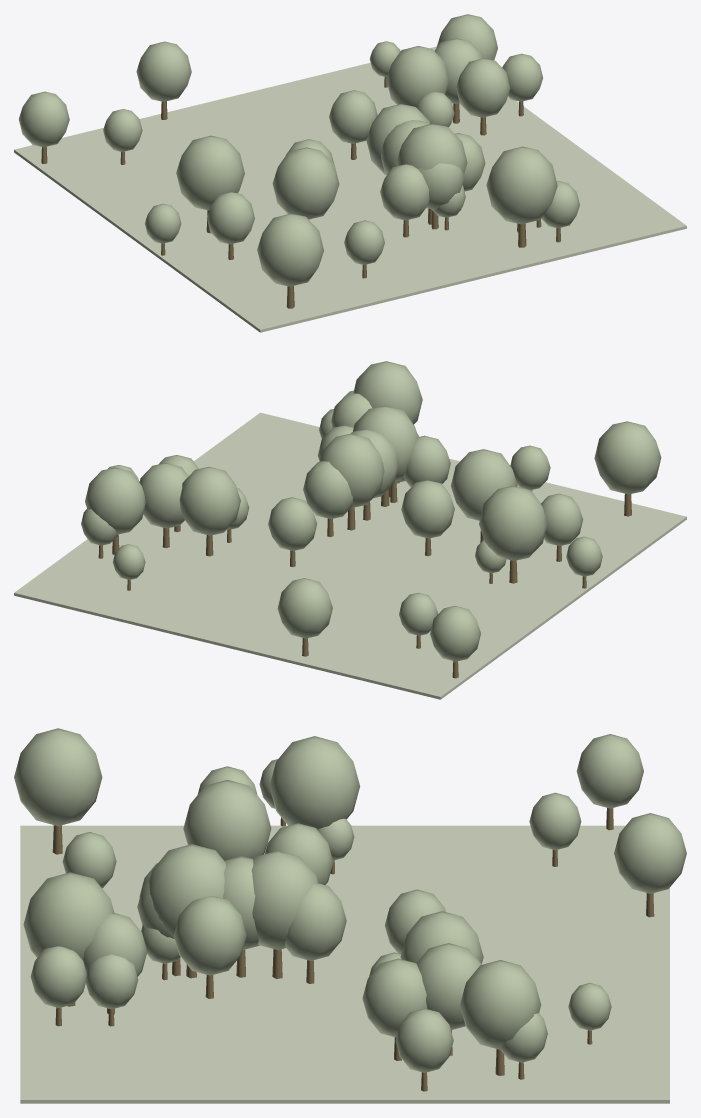
The picture shows the model from 3 angles, top to bottom: view 1: azimuth 30°, elevation 25°; view 2: azimuth 150°, elevation 25°; view 3: azimuth 270°, elevation 25°; orthographic projection. The views are drawn at different scales.
Parts seen in each view (by area): view 1: terrain, lod-near-11, lod-near-9, lod-near-13, lod-near-22, lod-near-19, lod-near-10, lod-near-5, lod-near-31, lod-near-14, lod-near-0, lod-near-27 (+15 smaller); view 2: terrain, lod-near-13, lod-near-9, lod-near-19, lod-near-22, lod-near-16, lod-near-7, lod-near-11, lod-near-10, lod-near-24, lod-near-23, lod-near-14 (+13 smaller); view 3: terrain, lod-near-9, lod-near-13, lod-near-11, lod-near-22, lod-near-16, lod-near-10, lod-near-7, lod-near-29, lod-near-31, lod-near-14, lod-near-5 (+18 smaller).
Part boxes in pixels (bbox=[...]): terrain: bbox=[14, 46, 686, 332]; lod-near-11: bbox=[486, 146, 557, 224]; lod-near-9: bbox=[257, 213, 323, 286]; lod-near-13: bbox=[176, 135, 244, 210]; lod-near-22: bbox=[272, 147, 339, 219]; lod-near-19: bbox=[386, 46, 449, 106]; lod-near-10: bbox=[136, 41, 191, 101]; lod-near-5: bbox=[456, 58, 510, 117]; lod-near-31: bbox=[396, 123, 467, 173]; lod-near-14: bbox=[18, 91, 69, 147]; lod-near-0: bbox=[380, 164, 429, 220]; lod-near-27: bbox=[329, 90, 377, 143]; terrain: bbox=[14, 412, 686, 699]; lod-near-13: bbox=[479, 486, 547, 560]; lod-near-9: bbox=[594, 421, 661, 494]; lod-near-19: bbox=[179, 467, 240, 535]; lod-near-22: bbox=[451, 449, 517, 520]; lod-near-16: bbox=[85, 467, 145, 534]; lod-near-7: bbox=[319, 433, 384, 507]; lod-near-11: bbox=[353, 361, 422, 424]; lod-near-10: bbox=[277, 578, 332, 638]; lod-near-24: bbox=[401, 480, 454, 538]; lod-near-23: bbox=[139, 463, 188, 528]; lod-near-14: bbox=[430, 606, 480, 661]; terrain: bbox=[20, 825, 669, 1103]; lod-near-9: bbox=[14, 728, 102, 826]; lod-near-13: bbox=[269, 736, 360, 829]; lod-near-11: bbox=[23, 872, 114, 959]; lod-near-22: bbox=[183, 779, 271, 860]; lod-near-16: bbox=[460, 960, 541, 1049]; lod-near-10: bbox=[614, 813, 686, 893]; lod-near-7: bbox=[251, 850, 318, 949]; lod-near-29: bbox=[174, 896, 246, 975]; lod-near-31: bbox=[149, 844, 225, 938]; lod-near-14: bbox=[576, 734, 643, 808]; lod-near-5: bbox=[362, 958, 427, 1037].
Bounding box in the file's own units: 33.58 × 7.31 × 33.15.
